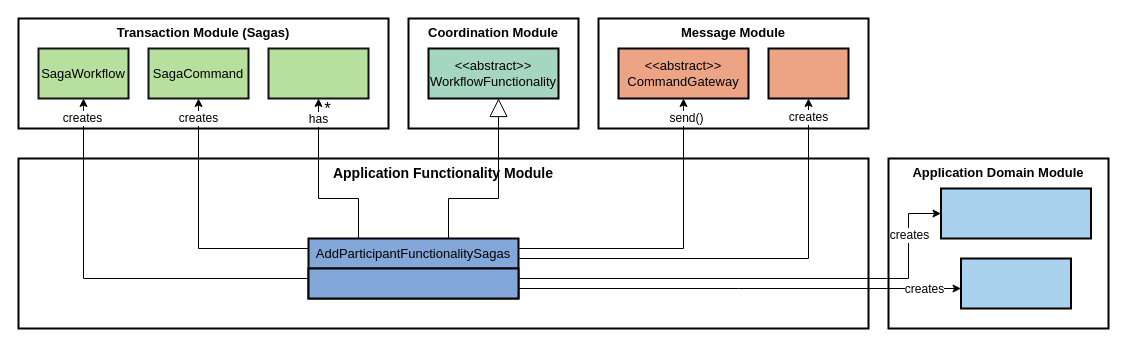
Image size: 1126x346. Some labels were removed from this diagram. Each missing label, with the centre of its shape:
+ buildWorkflow(): pixel 413 283
Add Participant Command: pixel 1016 283
Command: pixel 808 73
Get Student By Execution Id And User Id Command: pixel 1016 213
SagaStep: pixel 318 73
